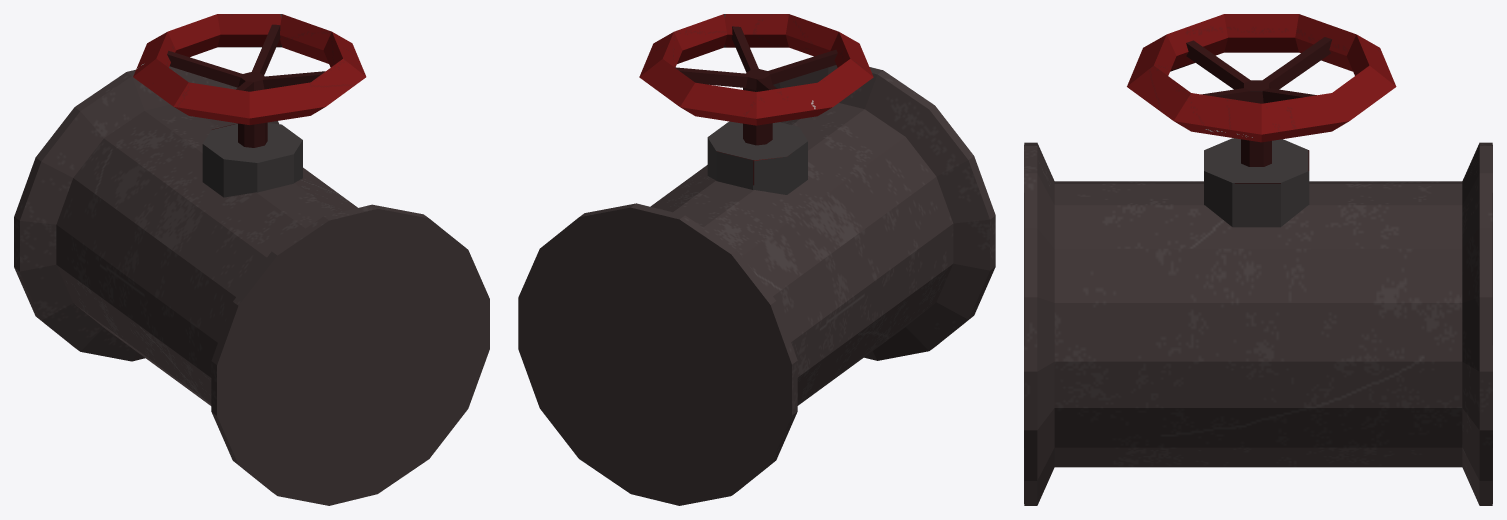
File: pipe_valve.obj
3 renders of one model, left to right at view 1: azimuth 30°, elevation 25°; view 2: azimuth 150°, elevation 25°; view 3: azimuth 270°, elevation 25°, orthographic. The views are drawn at different scales.
Parts seen in each view (by area): view 1: Cube.002, Cube.003; view 2: Cube.002, Cube.003; view 3: Cube.002, Cube.003.
Part boxes in pixels (x1,y1,x2,y2): Cube.002: [14, 66, 489, 505]; Cube.003: [133, 14, 366, 197]; Cube.002: [518, 65, 995, 505]; Cube.003: [639, 14, 873, 194]; Cube.002: [1024, 142, 1492, 505]; Cube.003: [1127, 14, 1396, 227].
Bounding box in the file's own units: 1.23 × 1.61 × 1.58.
Materials: 2 (2 with a texture image).
